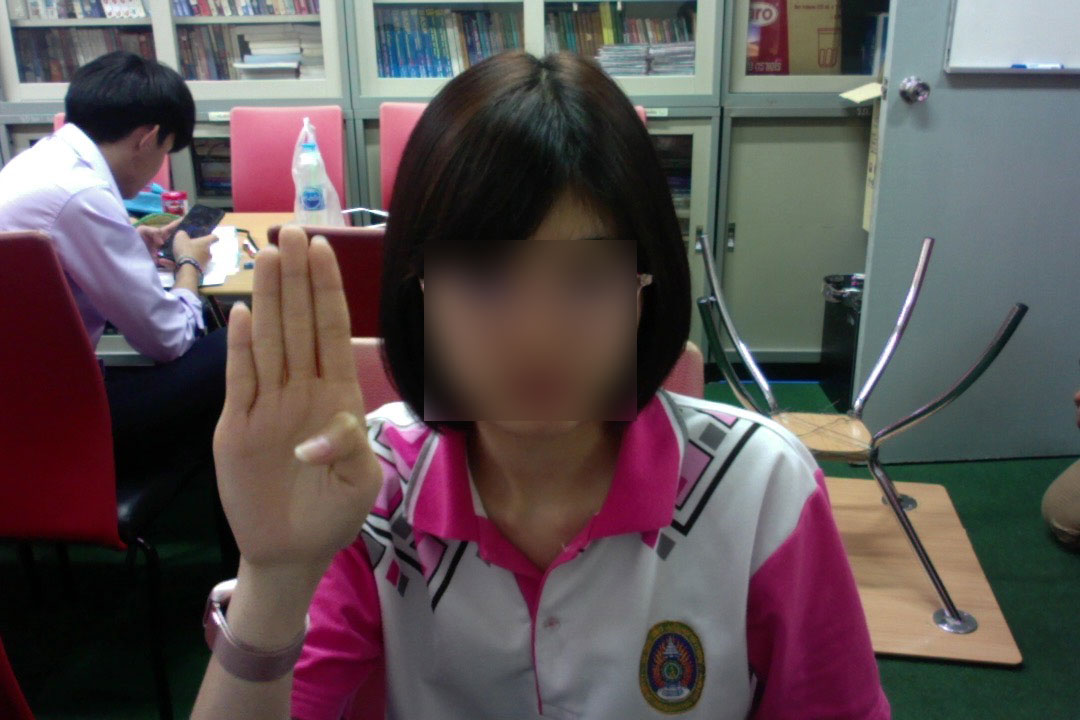bor: (208, 218, 388, 573)
